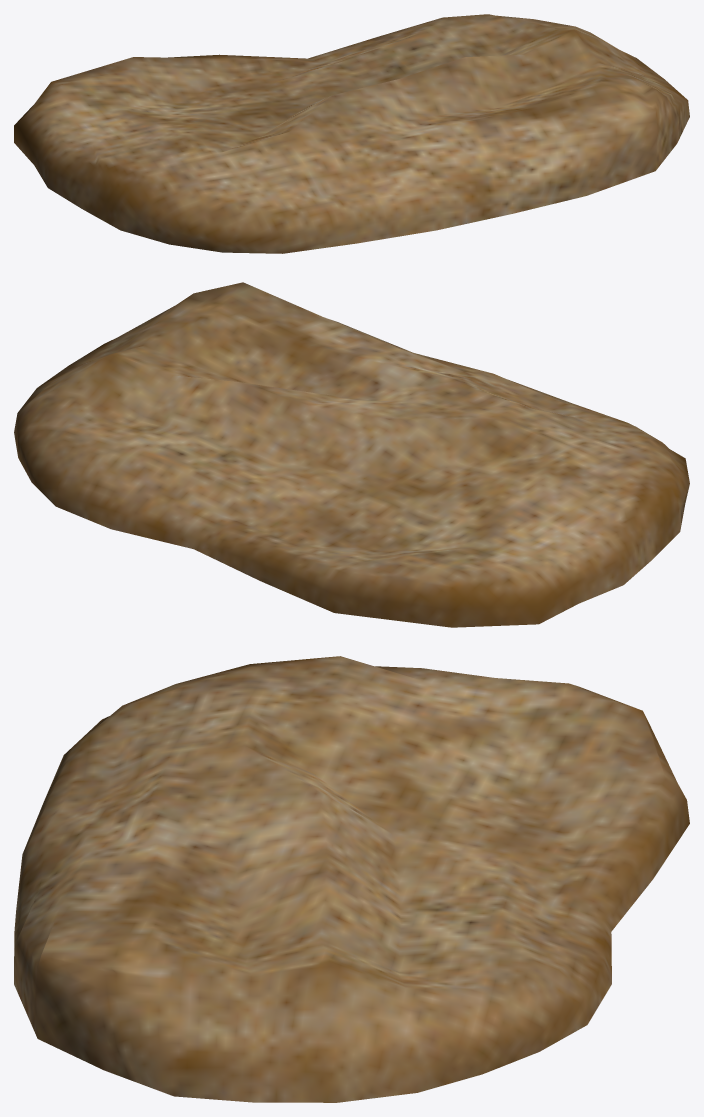
The model's file is Hay mat 1.fbx.
The picture shows the model from 3 angles, top to bottom: view 1: azimuth 30°, elevation 25°; view 2: azimuth 150°, elevation 25°; view 3: azimuth 270°, elevation 25°; orthographic projection. The views are drawn at different scales.
Parts seen in each view (by area): view 1: Hay mat 1; view 2: Hay mat 1; view 3: Hay mat 1.
Boxes of the visible parts, x1,y1,x2,y2 form: Hay mat 1: [14, 14, 689, 253]; Hay mat 1: [14, 282, 689, 627]; Hay mat 1: [14, 656, 689, 1102].
Bounding box in the file's own units: 0.989 × 0.1062 × 0.7087.
